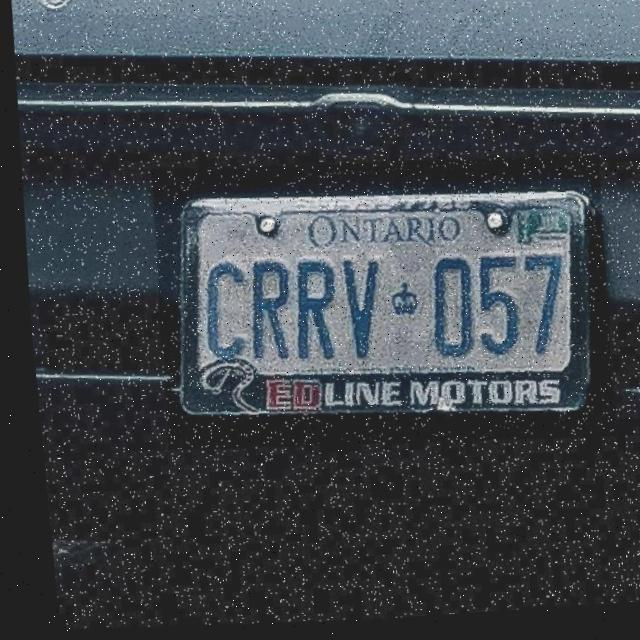LicensePlate: (138, 149, 616, 468)
